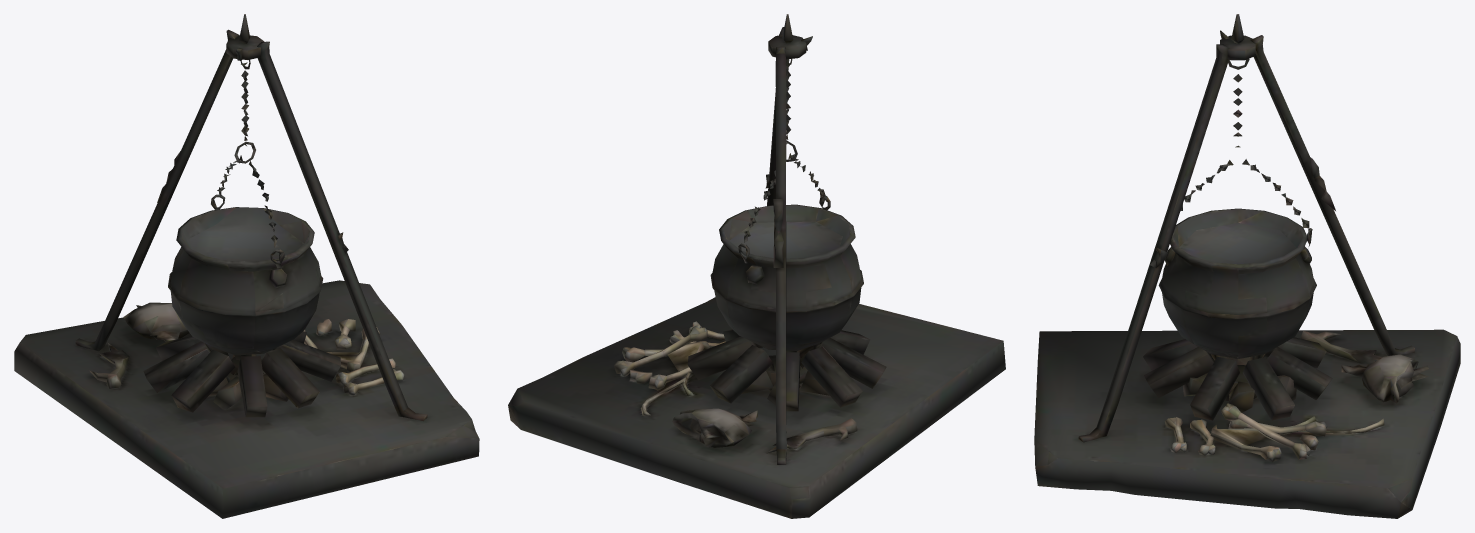
The model's file is prop_node_cook_cauldron.glb.
3 views of the same model, side by side, from view 1: azimuth 30°, elevation 25°; view 2: azimuth 150°, elevation 25°; view 3: azimuth 270°, elevation 25° (orthographic). The views are drawn at different scales.
Parts seen in each view (by area): view 1: tripo_node_03d3e9ca-8db2-4922-9b74-10dd87e475fd; view 2: tripo_node_03d3e9ca-8db2-4922-9b74-10dd87e475fd; view 3: tripo_node_03d3e9ca-8db2-4922-9b74-10dd87e475fd.
Part boxes in pixels (left/top/right/bottom): tripo_node_03d3e9ca-8db2-4922-9b74-10dd87e475fd: left=14, top=14, right=479, bottom=518; tripo_node_03d3e9ca-8db2-4922-9b74-10dd87e475fd: left=508, top=14, right=1005, bottom=518; tripo_node_03d3e9ca-8db2-4922-9b74-10dd87e475fd: left=1034, top=14, right=1460, bottom=518.
Bounding box in the file's own units: 0.8535 × 0.998 × 0.9511.
1 material, 1 textured.
